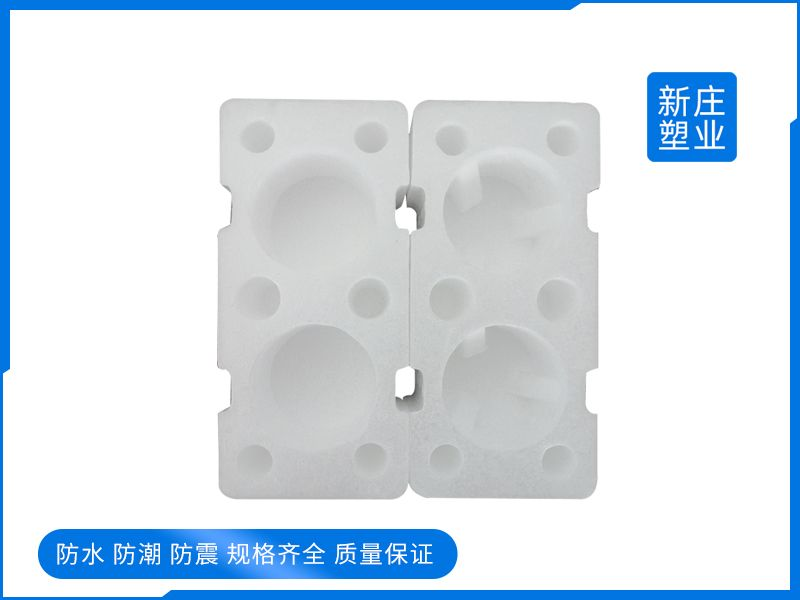泡沫箱: (218, 100, 600, 499)
